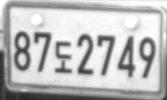2: (77, 33, 94, 74)
4: (117, 35, 136, 77)
7: (33, 31, 52, 71), (97, 34, 115, 76)
8: (13, 30, 31, 71)
9: (138, 36, 156, 78)
도: (55, 40, 72, 74)
